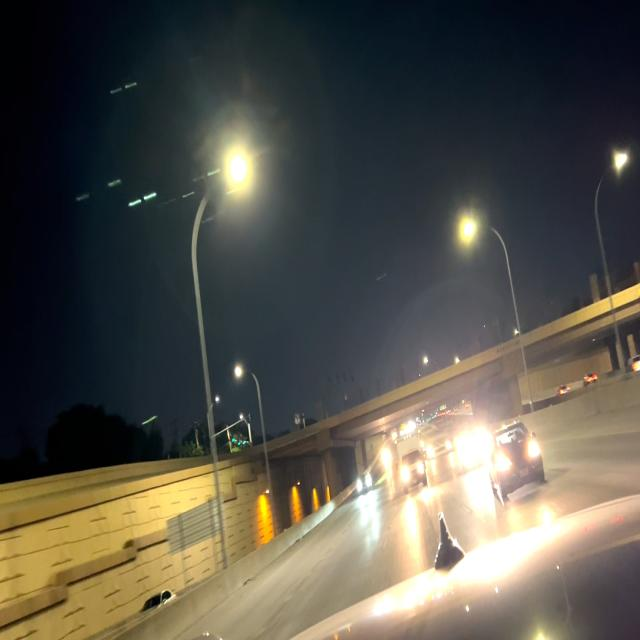back-of-sign: (166, 496, 221, 558)
